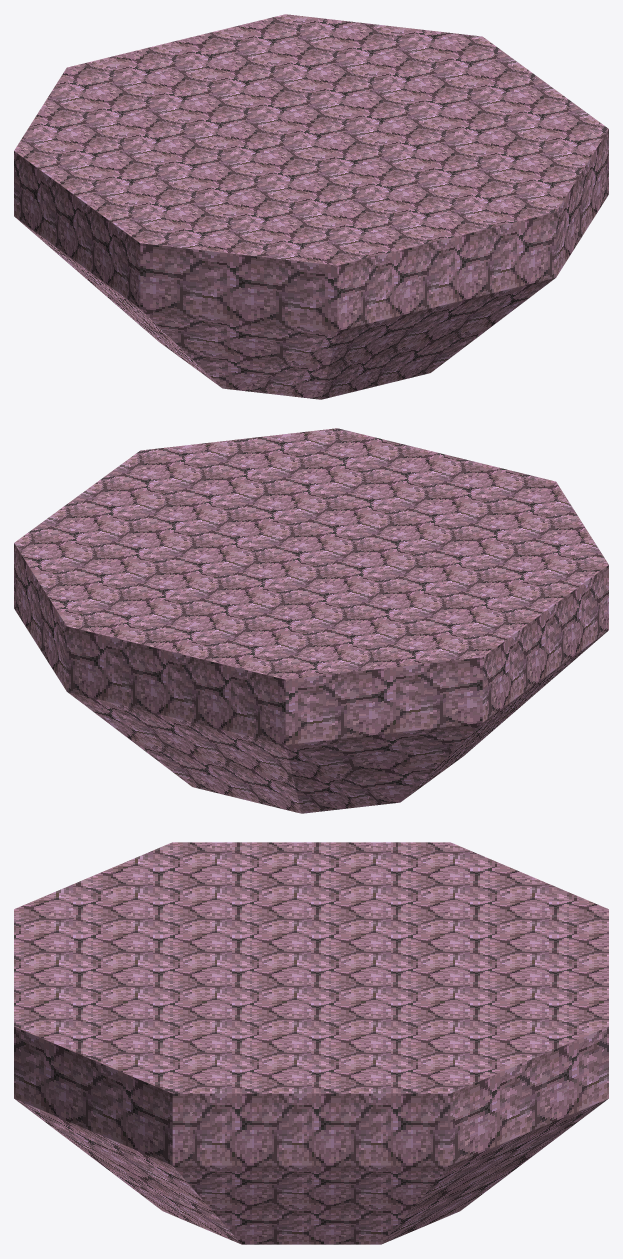
File: km3_kaitendai.obj
3 views of the same model, one above another, from view 1: azimuth 30°, elevation 25°; view 2: azimuth 150°, elevation 25°; view 3: azimuth 270°, elevation 25° (orthographic). The views are drawn at different scales.
Parts seen in each view (by area): view 1: world_root; view 2: world_root; view 3: world_root.
Part boxes in pixels (x1,y1,x2,y2): world_root: (14, 14, 608, 399); world_root: (14, 428, 608, 813); world_root: (14, 842, 608, 1244).
Size of the model in its own units: 188 by 75 by 188.
1 material, 1 textured.
